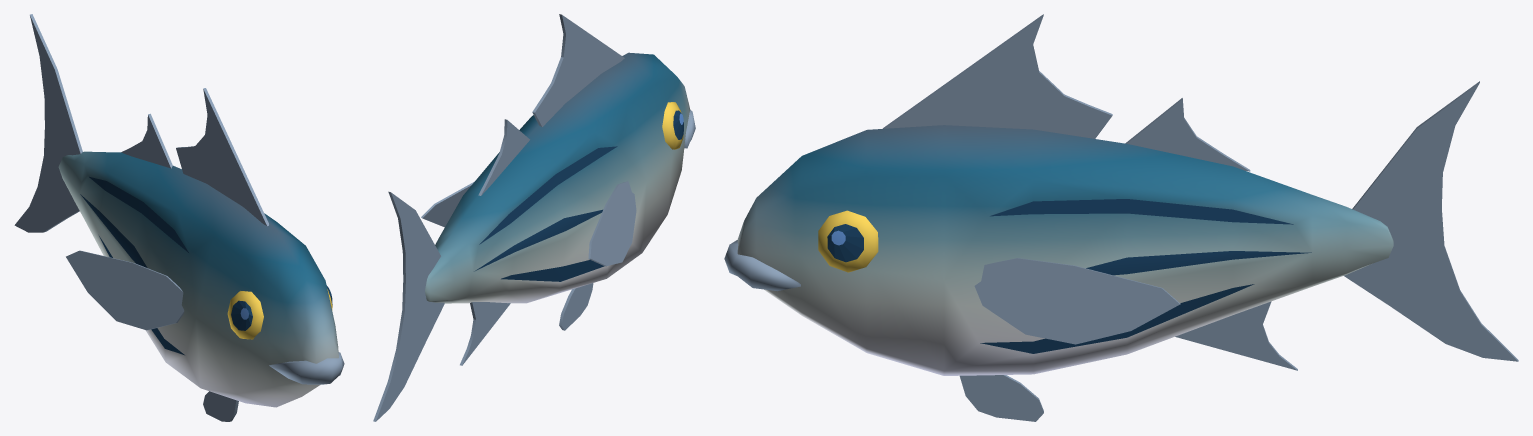
3 renders of one model, left to right at view 1: azimuth 30°, elevation 25°; view 2: azimuth 150°, elevation 25°; view 3: azimuth 270°, elevation 25°, orthographic. The views are drawn at different scales.
Visible parts, largest first — view 1: Fish_Tuna; view 2: Fish_Tuna; view 3: Fish_Tuna.
Boxes of the visible parts, bbox=[...] form: Fish_Tuna: bbox=[14, 14, 344, 421]; Fish_Tuna: bbox=[373, 14, 695, 421]; Fish_Tuna: bbox=[724, 14, 1518, 421].
Size of the model in its own units: 34.15 by 61.26 by 109.
